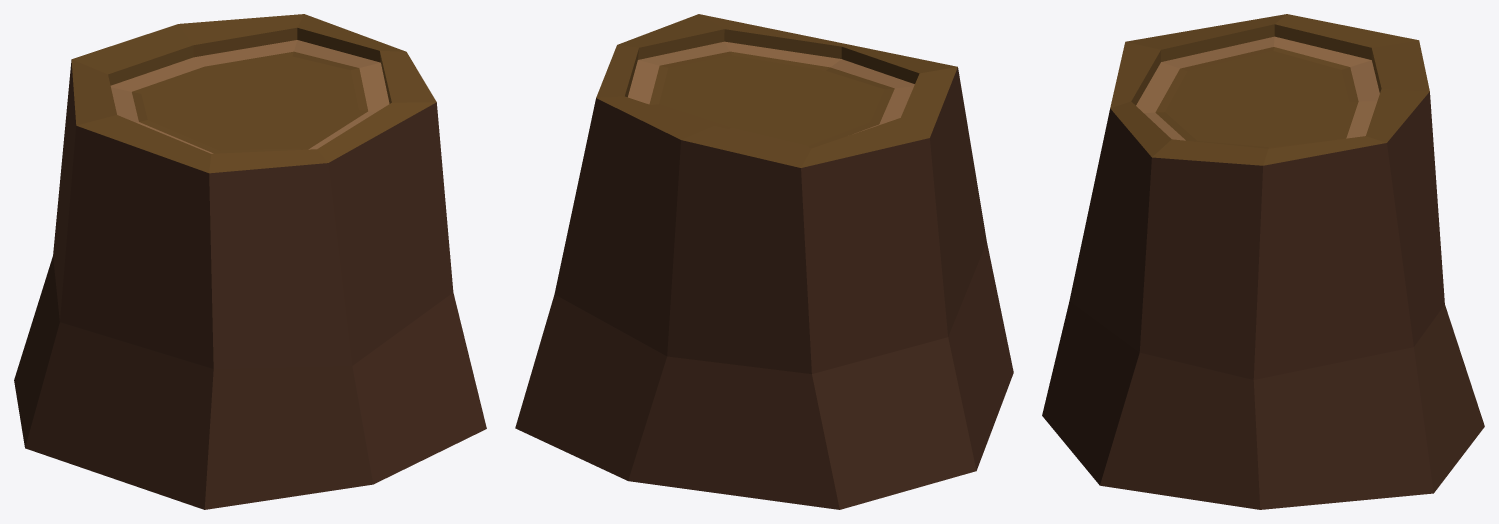
Rendered from Tronco_Parado.fbx.
3 views of the same model, side by side, from view 1: azimuth 30°, elevation 25°; view 2: azimuth 150°, elevation 25°; view 3: azimuth 270°, elevation 25° (orthographic).
Visible parts, largest first — view 1: Tronco parado 8; view 2: Tronco parado 8; view 3: Tronco parado 8.
Boxes of the visible parts, left/top/right/bottom form: Tronco parado 8: left=14, top=14, right=486, bottom=509; Tronco parado 8: left=515, top=14, right=1013, bottom=509; Tronco parado 8: left=1042, top=14, right=1484, bottom=509.
Size of the model in its own units: 278 by 206 by 254.
Materials: 1 (1 with a texture image).
